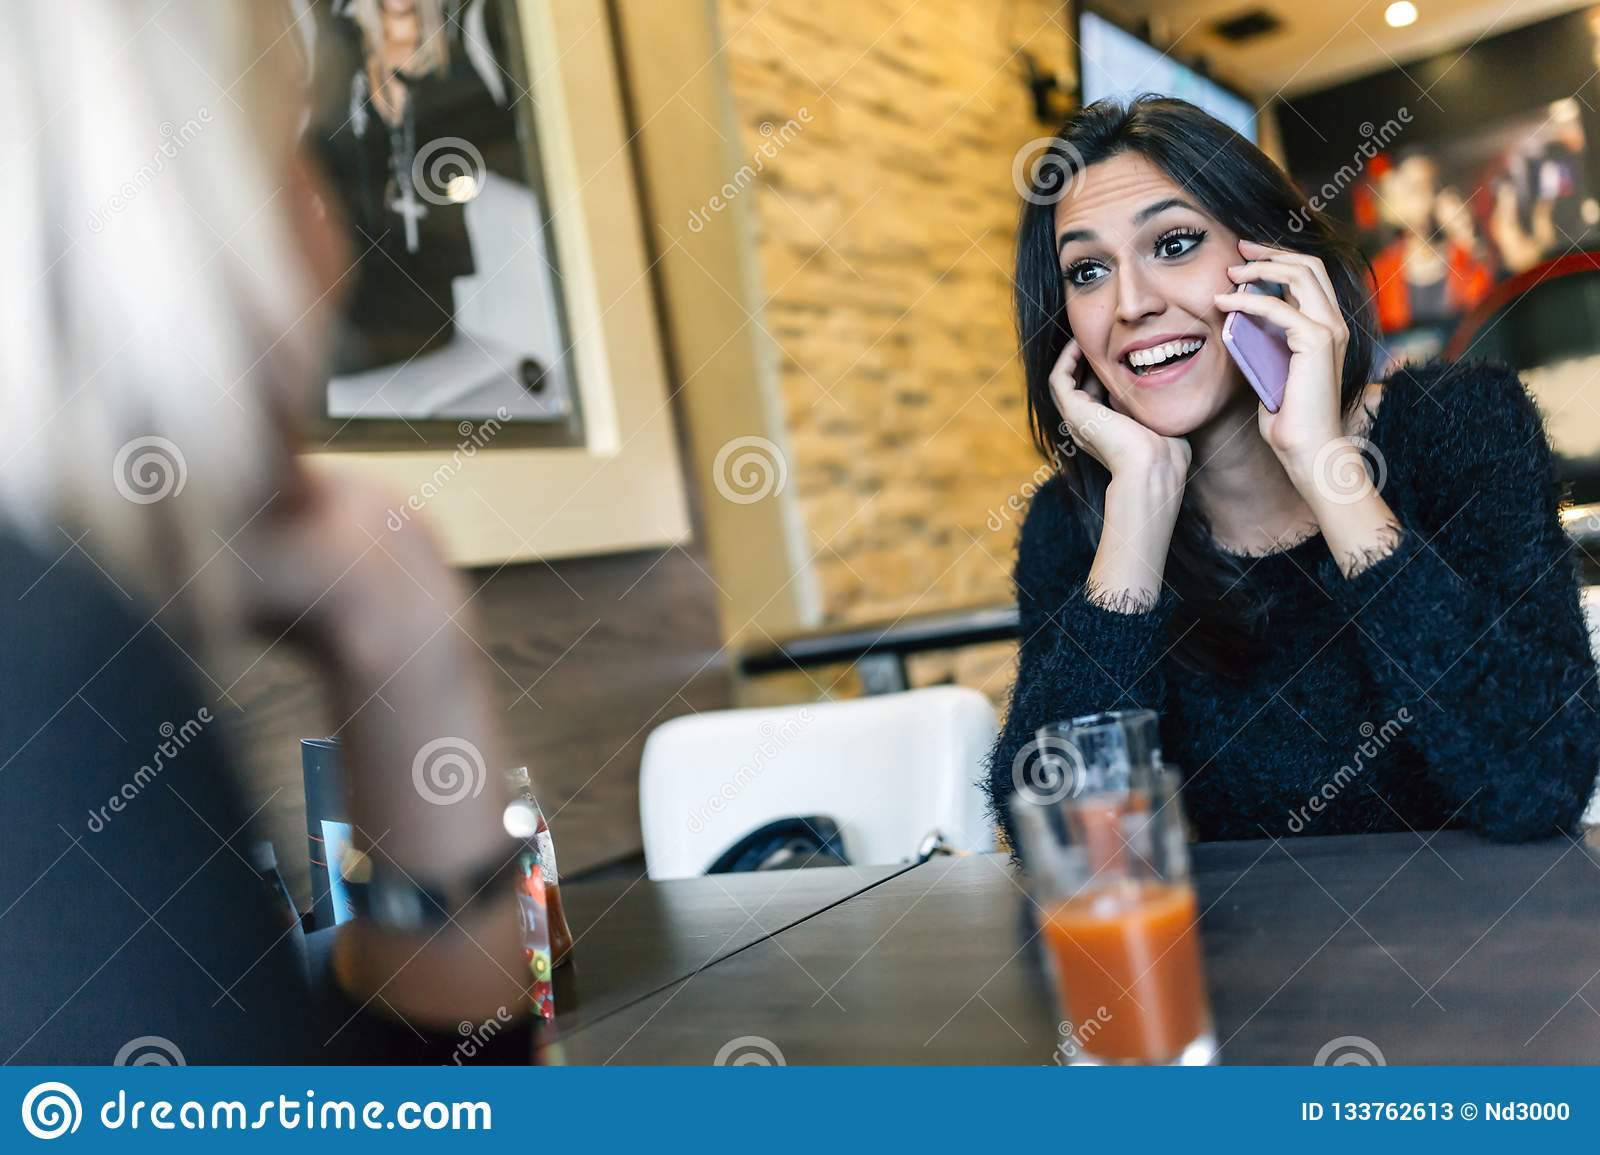phone: (1222, 238, 1311, 423)
talk: (1056, 185, 1352, 486)
